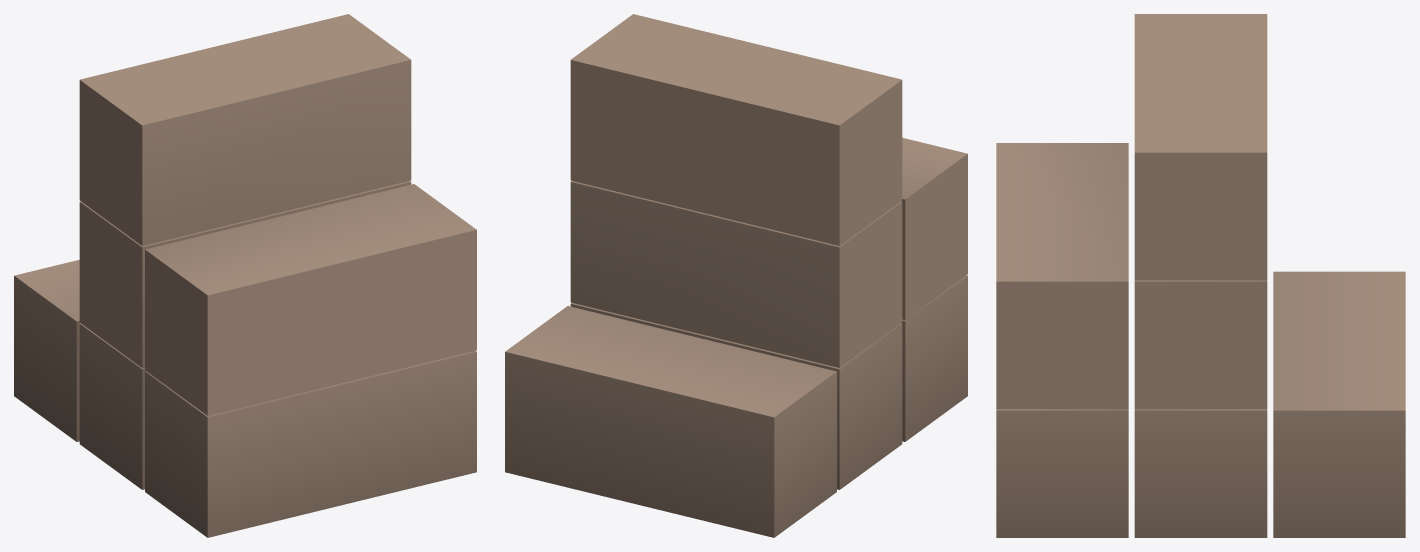
File: container_stack.lod2.glb
3 renders of one model, left to right at view 1: azimuth 30°, elevation 25°; view 2: azimuth 150°, elevation 25°; view 3: azimuth 270°, elevation 25°, orthographic. The views are drawn at different scales.
Parts seen in each view (by area): view 1: props_container_stack.lod2; view 2: props_container_stack.lod2; view 3: props_container_stack.lod2.
Part boxes in pixels (x1=…): props_container_stack.lod2: x1=14, y1=14, x2=476, y2=537; props_container_stack.lod2: x1=505, y1=14, x2=967, y2=537; props_container_stack.lod2: x1=996, y1=14, x2=1405, y2=537.
Size of the model in its own units: 6.05 by 7.83 by 7.54.
